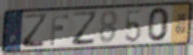0: (146, 7, 173, 43)
5: (124, 8, 144, 43)
8: (98, 9, 120, 46)
F: (48, 13, 70, 46)
Z: (72, 10, 99, 47), (22, 12, 49, 49)
